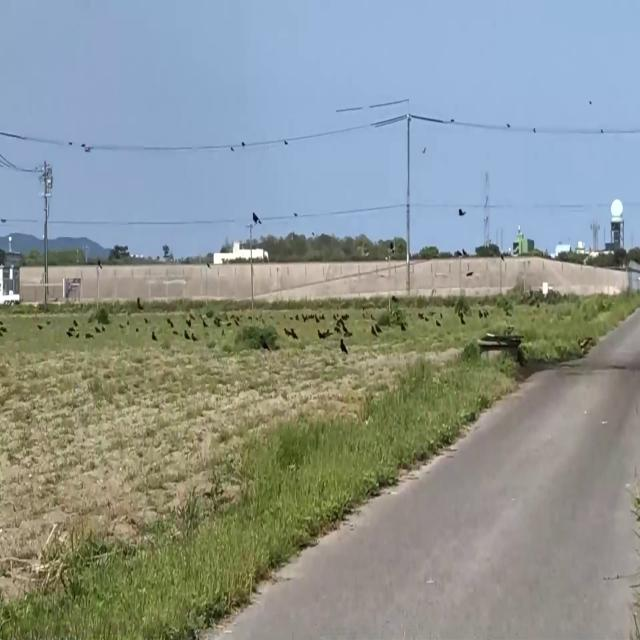bird: (458, 200, 466, 224), (341, 332, 348, 359), (252, 206, 260, 229), (261, 331, 268, 353)
